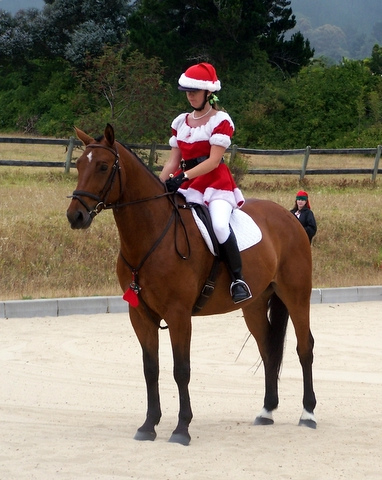person: (159, 63, 254, 307)
